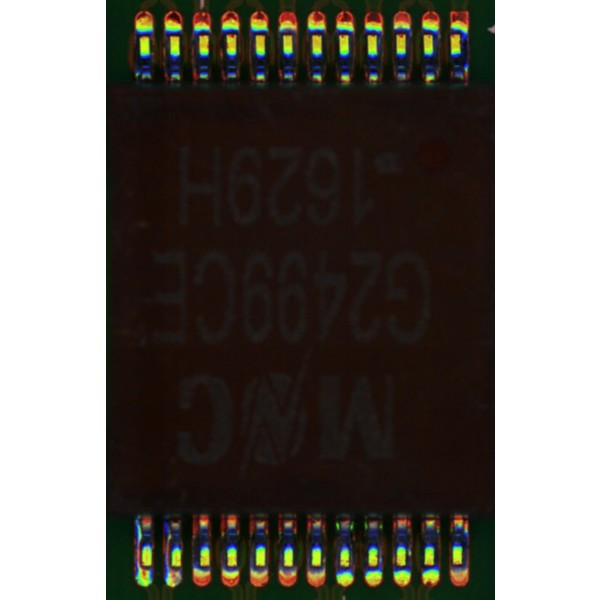Bad_podu: (171, 561, 180, 578), (141, 560, 149, 578)
Bad_qiaojiao: (136, 514, 142, 568), (165, 521, 171, 568)
